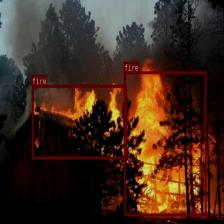fire: (124, 71, 206, 215), (32, 85, 127, 158)
